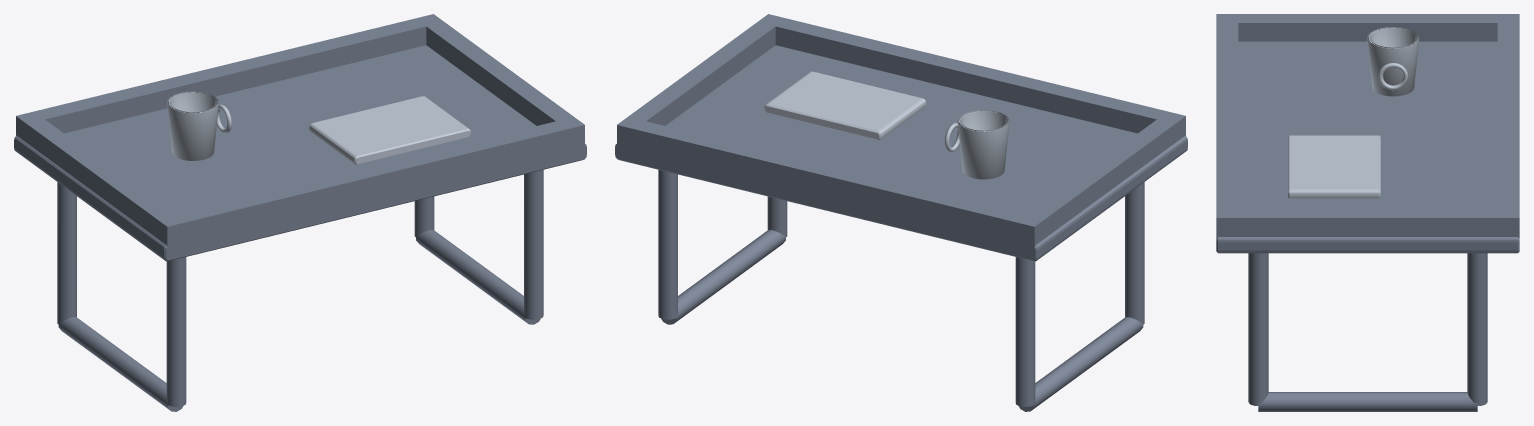
The model's file is bed-tray-lite.glb.
3 views of the same model, side by side, from view 1: azimuth 30°, elevation 25°; view 2: azimuth 150°, elevation 25°; view 3: azimuth 270°, elevation 25° (orthographic).
Parts seen in each view (by area): view 1: body, light; view 2: body, light; view 3: body, light.
Boxes of the visible parts, x1,y1,x2,y2 form: body: (14, 14, 586, 411); light: (167, 91, 470, 164); body: (615, 14, 1187, 411); light: (764, 71, 1009, 179); body: (1216, 14, 1519, 411); light: (1288, 27, 1419, 198).
Size of the model in its own units: 0.58 by 0.314 by 0.36.
